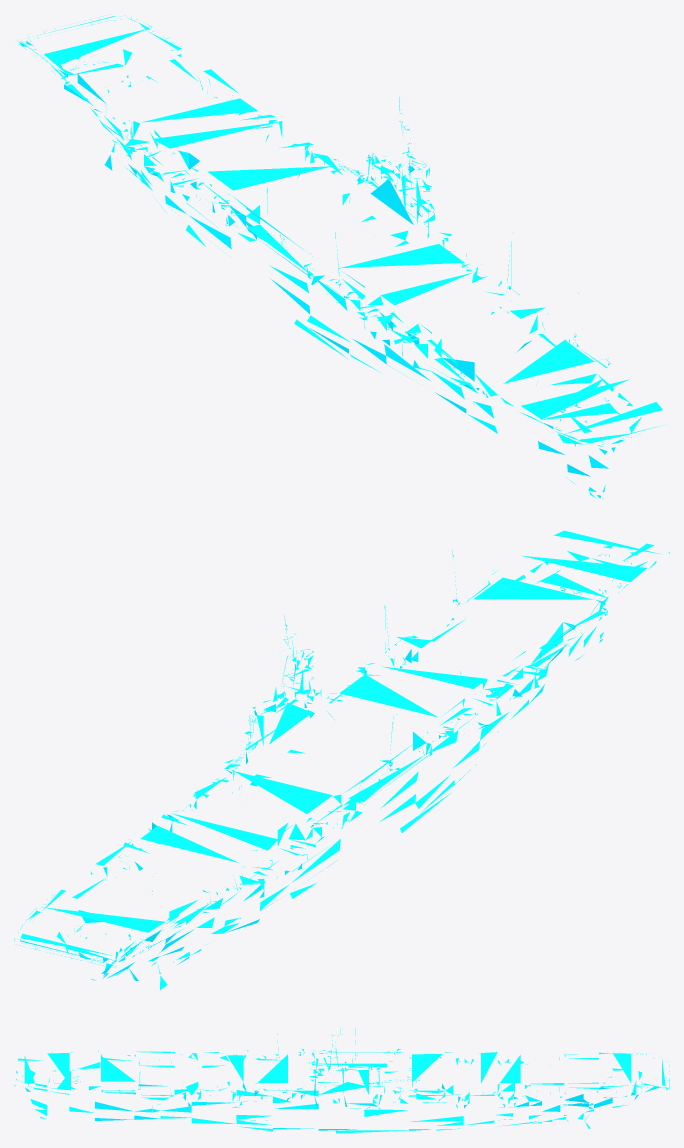
Rendered from Chkalov.glb.
3 views of the same model, one above another, from view 1: azimuth 30°, elevation 25°; view 2: azimuth 150°, elevation 25°; view 3: azimuth 270°, elevation 25° (orthographic). The views are drawn at different scales.
Size of the model in its own units: 2.6 by 3.33 by 16.75.
